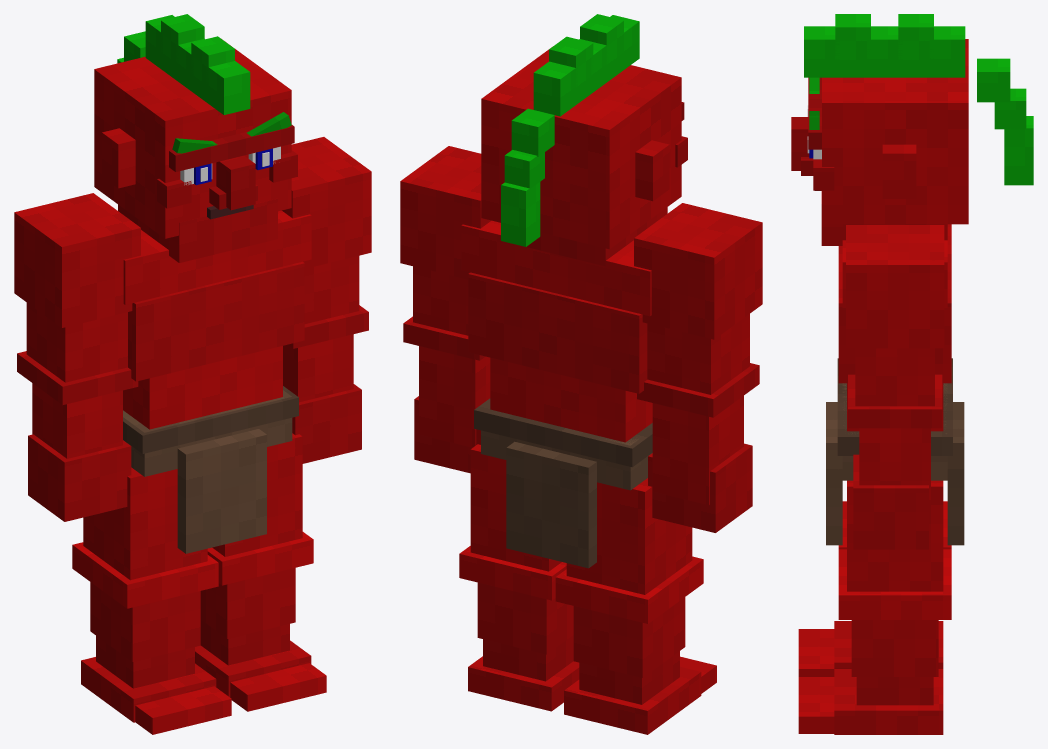
Rendered from human_s2_beard.glb.
The picture shows the model from 3 angles, left to right: view 1: azimuth 30°, elevation 25°; view 2: azimuth 150°, elevation 25°; view 3: azimuth 270°, elevation 25°; orthographic projection. The views are drawn at different scales.
Visible parts, largest first — view 1: Torso, Head, ArmR, LegR, ArmL, LegL; view 2: Torso, Head, ArmR, LegR, ArmL, LegL; view 3: Head, ArmL, LegL, Torso, LegR.
Boxes of the visible parts, left/top/right/bottom form: Torso: left=123, top=210, right=311, bottom=553; Head: left=94, top=14, right=297, bottom=262; ArmR: left=14, top=193, right=140, bottom=521; LegR: left=72, top=467, right=231, bottom=734; ArmL: left=282, top=137, right=371, bottom=463; LegL: left=195, top=433, right=326, bottom=711; Torso: left=461, top=220, right=652, bottom=568; Head: left=481, top=14, right=687, bottom=266; ArmR: left=634, top=203, right=762, bottom=532; LegR: left=555, top=478, right=716, bottom=734; ArmL: left=400, top=146, right=491, bottom=473; LegL: left=459, top=444, right=579, bottom=711; Head: left=791, top=14, right=1033, bottom=245; ArmL: left=846, top=225, right=944, bottom=549; LegL: left=798, top=480, right=951, bottom=734; Torso: left=826, top=224, right=964, bottom=545; LegR: left=798, top=501, right=951, bottom=676.
Size of the model in its own units: 0.881 by 1.76 by 0.5775.
21 materials, 21 textured.
